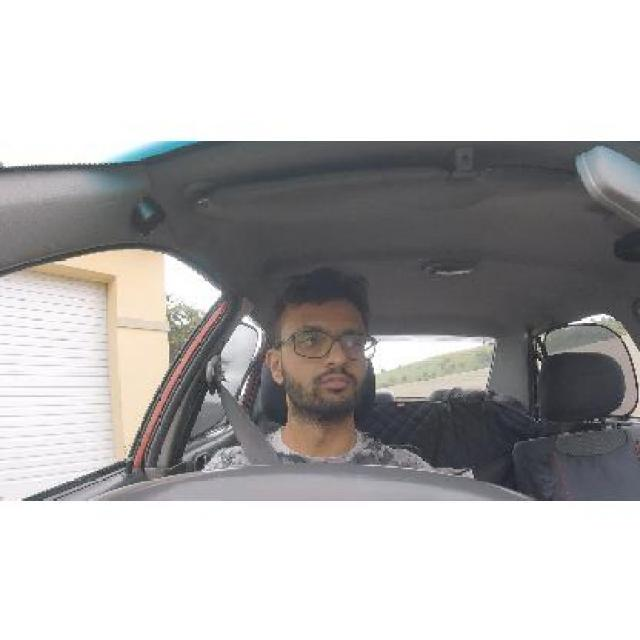person: (258, 259, 388, 443)
